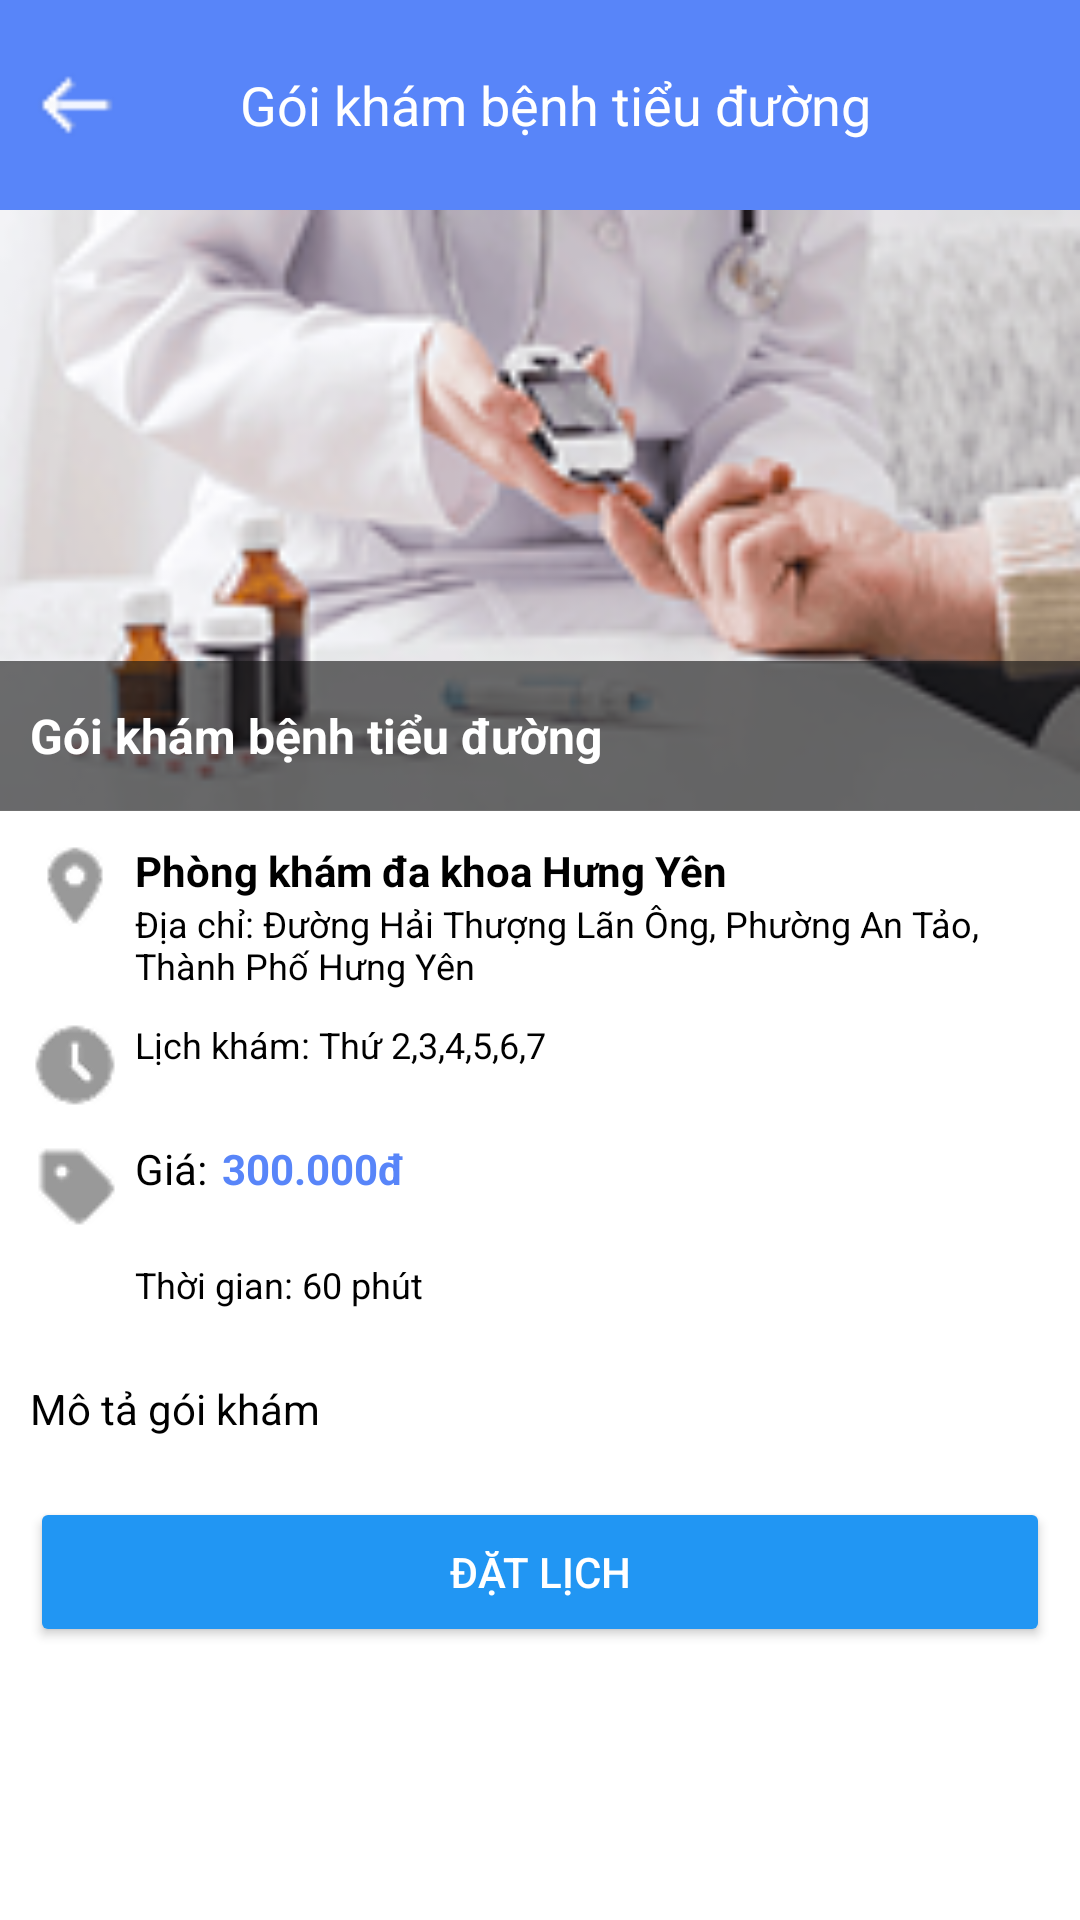

Icons on this 1080 × 1920 Android screen, each with the point to tap as point (x, y):
clock: point (75, 1065)
left: point (76, 105)
location: point (75, 885)
price: point (76, 1186)
